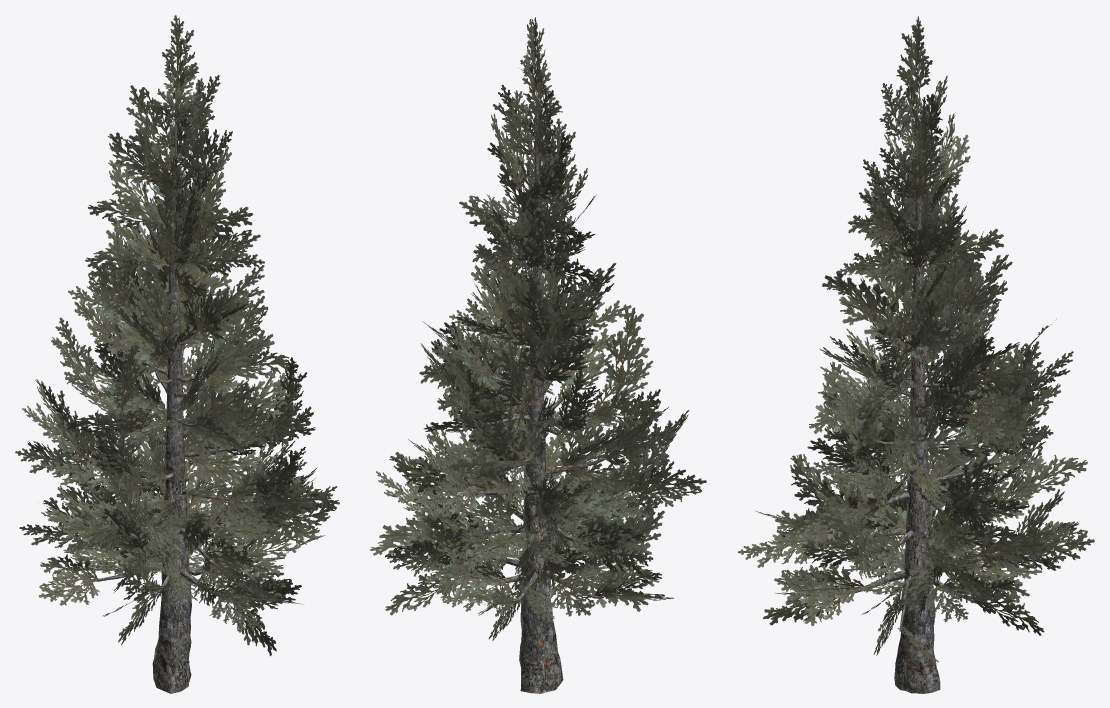
Rendered from spruce_tree.glb.
3 renders of one model, left to right at view 1: azimuth 30°, elevation 25°; view 2: azimuth 150°, elevation 25°; view 3: azimuth 270°, elevation 25°, orthographic.
Visible parts, largest first — view 1: Spruce_LOD0; view 2: Spruce_LOD0; view 3: Spruce_LOD0.
Part boxes in pixels (box(x1,y1,x2,y2)): Spruce_LOD0: box(15, 15, 339, 693); Spruce_LOD0: box(370, 17, 706, 693); Spruce_LOD0: box(738, 16, 1094, 693).
Size of the model in its own units: 8.1 by 17.42 by 8.42.
Materials: 2 (2 with a texture image).
